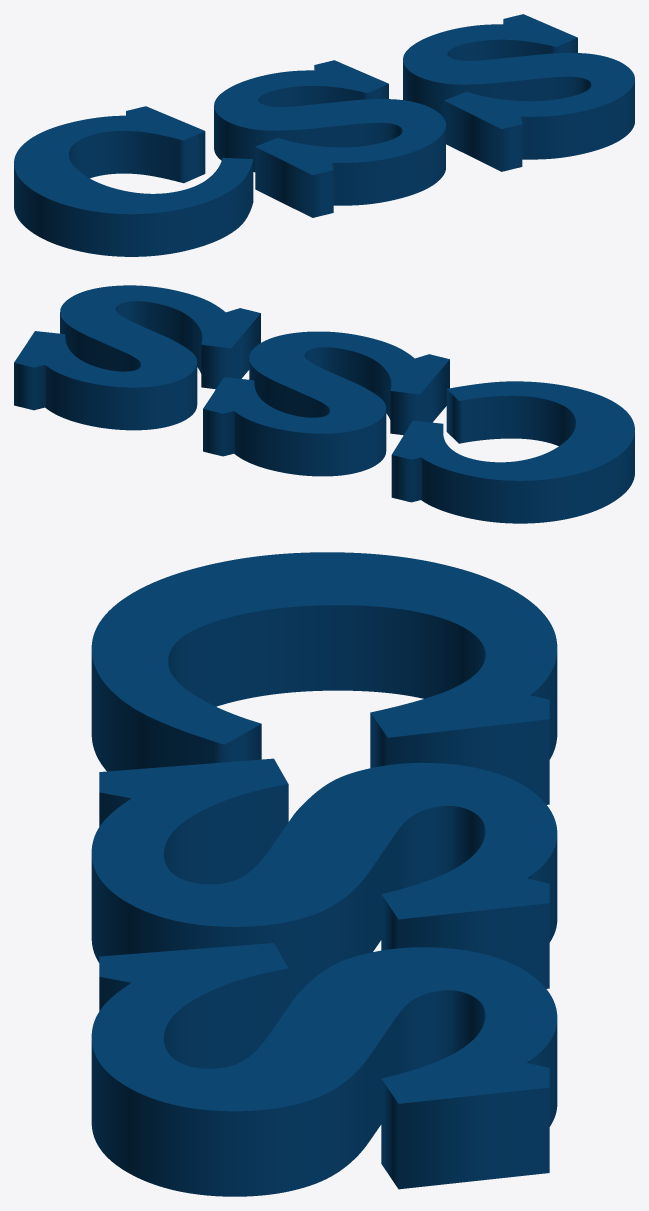
Rendered from css.fbx.
The picture shows the model from 3 angles, top to bottom: view 1: azimuth 30°, elevation 25°; view 2: azimuth 150°, elevation 25°; view 3: azimuth 270°, elevation 25°; orthographic projection. The views are drawn at different scales.
Visible parts, largest first — view 1: Text; view 2: Text; view 3: Text.
Boxes of the visible parts, x1,y1,x2,y2 form: Text: (14,14,634,256); Text: (14,285,634,523); Text: (91,552,557,1196).
Size of the model in its own units: 140 by 10 by 49.38.
